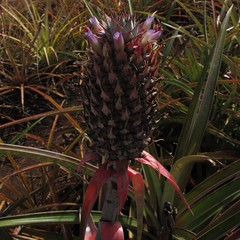Pineapple: (80, 11, 163, 167)
